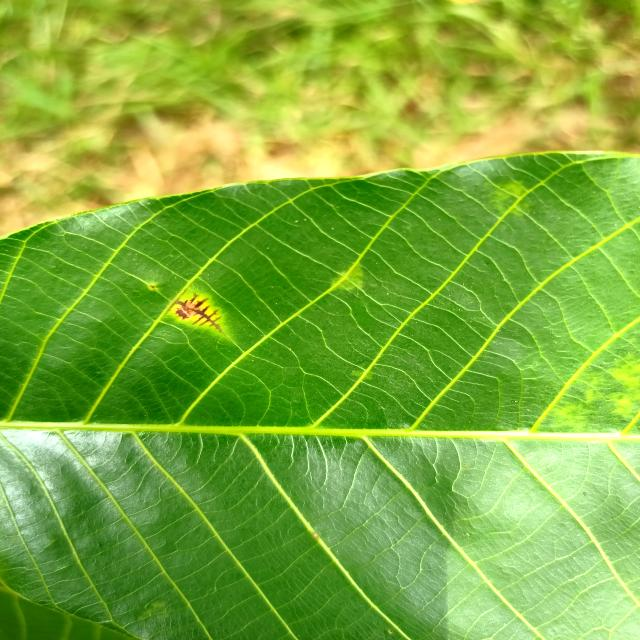Corynespora: (167, 292, 224, 335)
